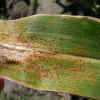Corn rust leaf: (0, 14, 99, 98)
